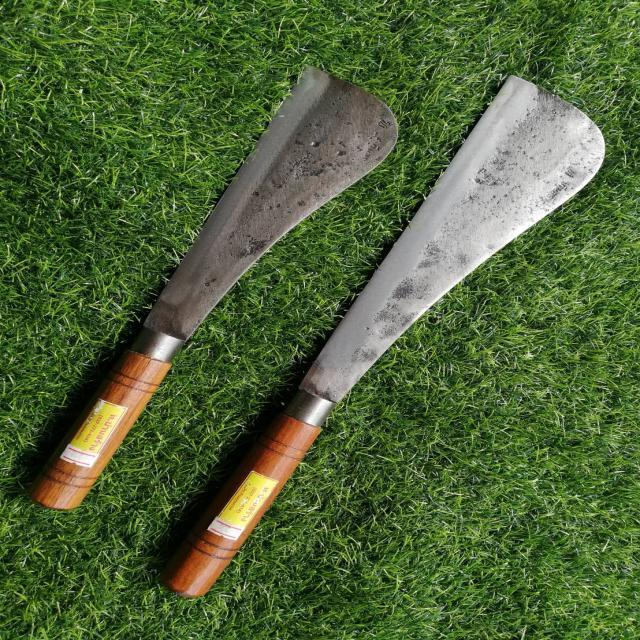eto: (138, 56, 629, 619), (19, 49, 423, 531)
